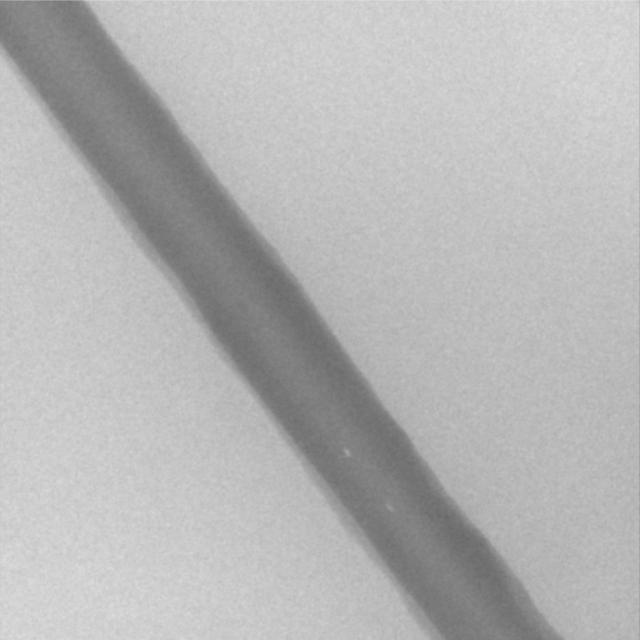air hole: (386, 502, 395, 514), (342, 447, 351, 459)
